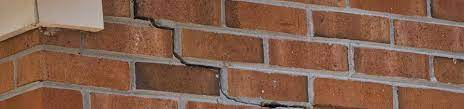stairstep_crack: (127, 0, 310, 108)
